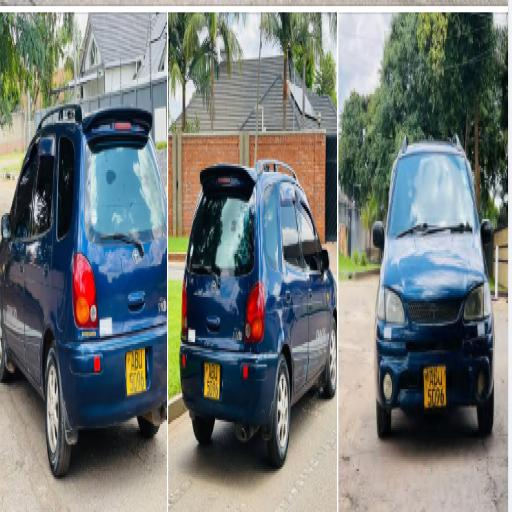number-plates: (126, 344, 148, 401), (424, 359, 448, 409)
